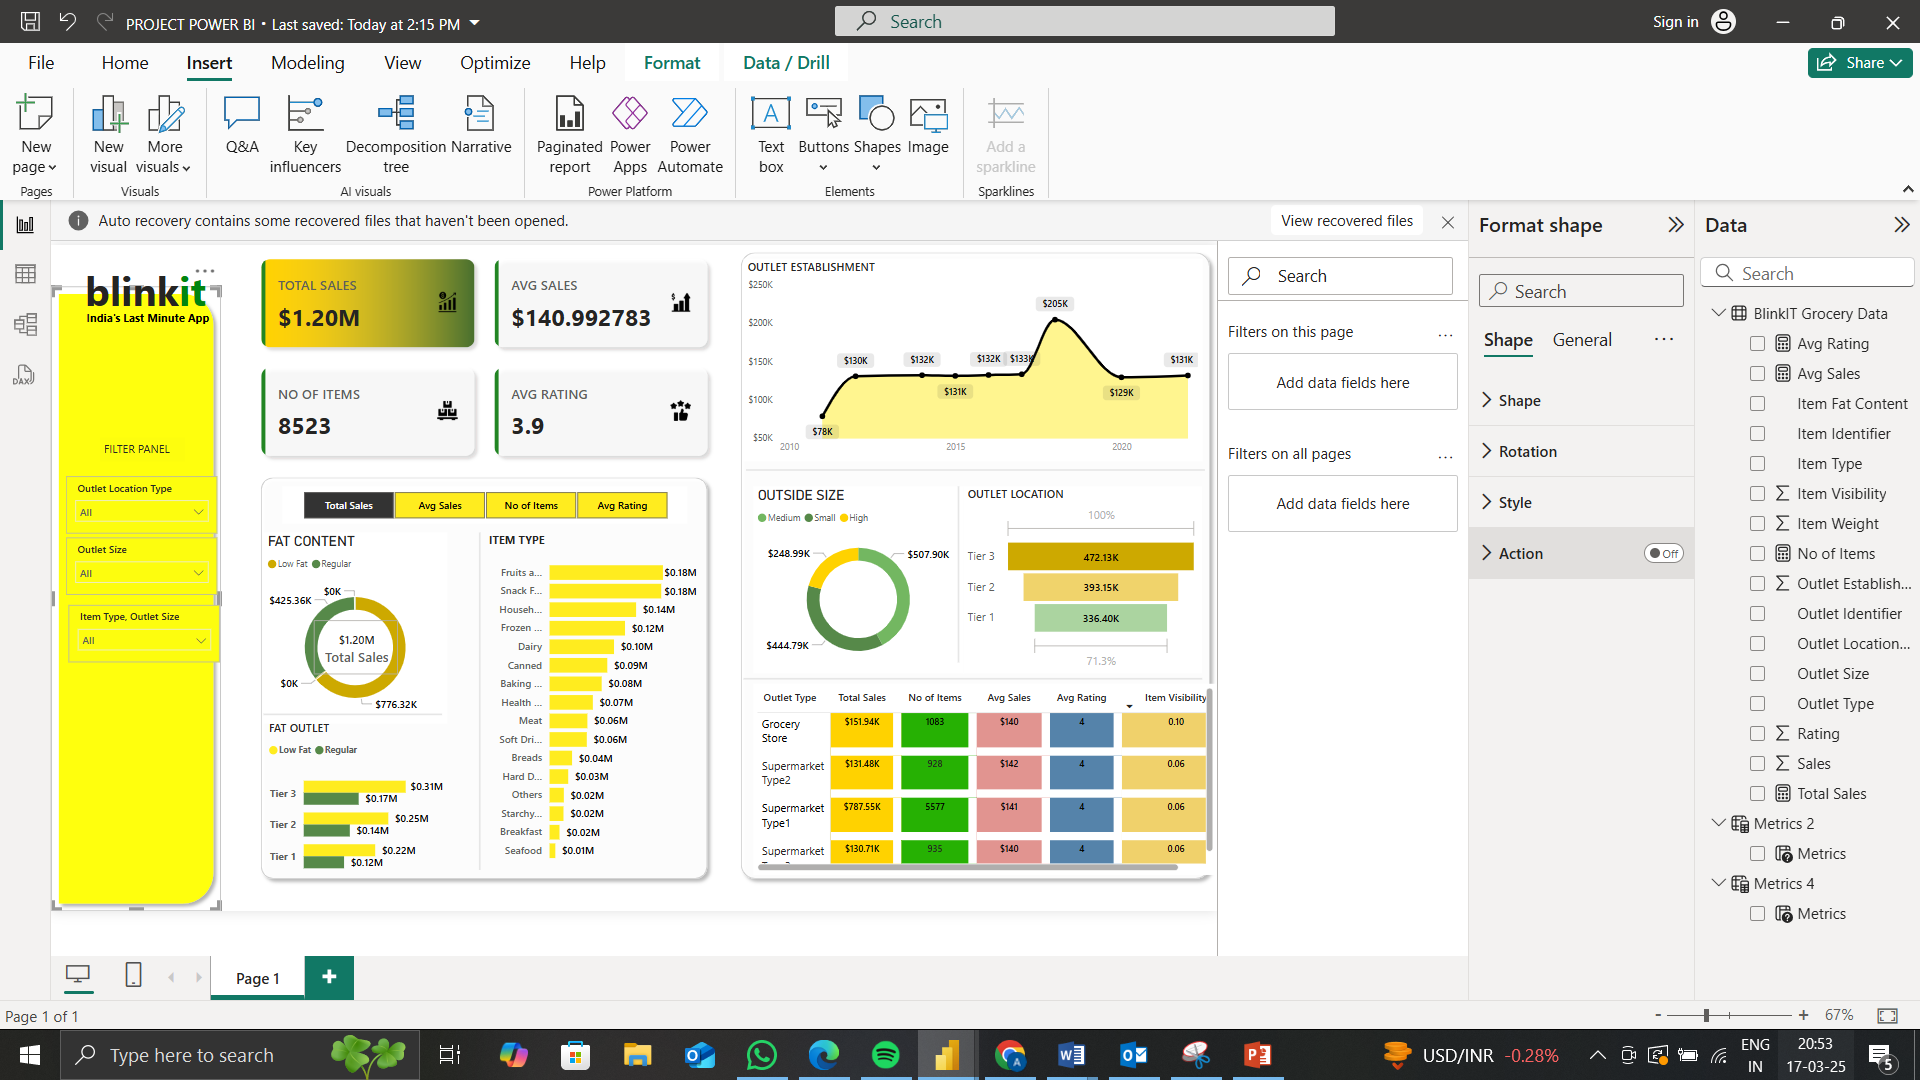

What the dashboard file says about the page in this screenshot:
{"tool":"powerbi","page":{"name":"Page 1","canvas":[1400,800],"ordinal":0},"visuals":[{"type":"shape","box":[10,0,205,750],"z":0},{"type":"textbox","box":[27,16.5,172.6,79.5],"z":1000},{"type":"textbox","box":[37.5,73.5,162.1,55.5],"z":2000},{"type":"cardVisual","fields":{"Data":["BlinkIT Grocery Data.Total Sales","BlinkIT Grocery Data.Avg Sales","BlinkIT Grocery Data.No of Items","BlinkIT Grocery Data.Ang Rating"]},"box":[235.6,0,570.3,270.2],"z":3000},{"type":"shape","box":[243.1,270.2,553.8,499.8],"z":4000},{"type":"donutChart","title":"FAT CONTENT","fields":{"Y":["BlinkIT Grocery Data.Total Sales","BlinkIT Grocery Data.Avg Sales","BlinkIT Grocery Data.No of Items","BlinkIT Grocery Data.Avg Rating","BlinkIT Grocery Data.Avg Sales"],"Category":["BlinkIT Grocery Data.Item Fat Content"]},"box":[255.1,345.2,220.6,229.6],"z":5000},{"type":"slicer","fields":{"Values":["Metrics 4.Metrics"]},"box":[277.7,289.7,486.3,45],"z":6000},{"type":"cardVisual","fields":{"Data":["BlinkIT Grocery Data.Total Sales"]},"box":[310.7,445.8,111.1,75],"z":7000},{"type":"clusteredBarChart","title":"FAT OUTLET","fields":{"Y":["BlinkIT Grocery Data.Total Sales"],"Category":["BlinkIT Grocery Data.Outlet Location Type"],"Series":["BlinkIT Grocery Data.Item Fat Content"]},"box":[256.6,570.3,219.1,199.6],"z":8000},{"type":"shape","box":[255.1,556.8,214.6,13.5],"z":9000},{"type":"shape","box":[508.8,345.2,12,405.2],"z":10000},{"type":"barChart","title":"ITEM TYPE","fields":{"Y":["BlinkIT Grocery Data.Total Sales"],"Category":["BlinkIT Grocery Data.Item Type"]},"box":[520.8,345.2,259.6,405.2],"z":11000},{"type":"shape","box":[819.5,0,580.8,769.9],"z":12000},{"type":"lineChart","title":"OUTLET ESTABLISHMENT","fields":{"Y":["BlinkIT Grocery Data.Total Sales"],"Category":["BlinkIT Grocery Data.Outlet Establishment Year"]},"box":[831.5,16.5,550.8,243.1],"z":13000},{"type":"shape","box":[834.5,264.2,550.8,12],"z":14000},{"type":"donutChart","title":"OUTSIDE SIZE","fields":{"Y":["BlinkIT Grocery Data.Total Sales"],"Category":["BlinkIT Grocery Data.Outlet Size"]},"box":[843.5,289.7,252.1,225.1],"z":15000},{"type":"shape","box":[1083.6,289.7,12,211.6],"z":16000},{"type":"funnel","title":"OUTLET LOCATION","fields":{"Y":["Sum(BlinkIT Grocery Data.Sales)"],"Category":["BlinkIT Grocery Data.Outlet Location Type"]},"box":[1095.6,289.7,286.7,225.1],"z":17000},{"type":"shape","box":[831.5,514.8,550.8,12],"z":18000},{"type":"pivotTable","fields":{"Rows":["BlinkIT Grocery Data.Outlet Type"],"Values":["BlinkIT Grocery Data.Total Sales","BlinkIT Grocery Data.No of Items","BlinkIT Grocery Data.Avg Sales","BlinkIT Grocery Data.Avg Rating","Avg(BlinkIT Grocery Data.Item Visibility)"]},"box":[843.5,526.8,556.8,229.6],"z":19000},{"type":"slicer","fields":{"Values":["BlinkIT Grocery Data.Outlet Location Type"]},"box":[18,277.7,181.6,69],"z":20000},{"type":"slicer","fields":{"Values":["BlinkIT Grocery Data.Outlet Size"]},"box":[18,351.2,181.6,69],"z":21000},{"type":"slicer","fields":{"Values":["BlinkIT Grocery Data.Item Type","BlinkIT Grocery Data.Outlet Size"]},"box":[21,432.2,181.6,69],"z":22000},{"type":"textbox","box":[58.5,231.1,102.1,28.5],"z":23000}]}

Visuals, with their boxes on the page's 1400x800 design canvas (x1, y1, x2, y2). These are canvas units, not pixel positions in the 1920x1080 screenshot, which may show the page scaled, cropped or inside an application window:
shape: x1=10 y1=0 x2=215 y2=750
textbox: x1=27 y1=16 x2=200 y2=96
textbox: x1=38 y1=74 x2=200 y2=129
cardVisual - BlinkIT Grocery Data.Total Sales x BlinkIT Grocery Data.Avg Sales: x1=236 y1=0 x2=806 y2=270
shape: x1=243 y1=270 x2=797 y2=770
"FAT CONTENT" donutChart: x1=255 y1=345 x2=476 y2=575
slicer - Metrics 4.Metrics: x1=278 y1=290 x2=764 y2=335
cardVisual - BlinkIT Grocery Data.Total Sales: x1=311 y1=446 x2=422 y2=521
"FAT OUTLET" clusteredBarChart: x1=257 y1=570 x2=476 y2=770
shape: x1=255 y1=557 x2=470 y2=570
shape: x1=509 y1=345 x2=521 y2=750
"ITEM TYPE" barChart: x1=521 y1=345 x2=780 y2=750
shape: x1=820 y1=0 x2=1400 y2=770
"OUTLET ESTABLISHMENT" lineChart: x1=832 y1=16 x2=1382 y2=260
shape: x1=834 y1=264 x2=1385 y2=276
"OUTSIDE SIZE" donutChart: x1=844 y1=290 x2=1096 y2=515
shape: x1=1084 y1=290 x2=1096 y2=501
"OUTLET LOCATION" funnel: x1=1096 y1=290 x2=1382 y2=515
shape: x1=832 y1=515 x2=1382 y2=527
pivotTable - BlinkIT Grocery Data.Outlet Type x BlinkIT Grocery Data.Total Sales: x1=844 y1=527 x2=1400 y2=756
slicer - BlinkIT Grocery Data.Outlet Location Type: x1=18 y1=278 x2=200 y2=347
slicer - BlinkIT Grocery Data.Outlet Size: x1=18 y1=351 x2=200 y2=420
slicer - BlinkIT Grocery Data.Item Type x BlinkIT Grocery Data.Outlet Size: x1=21 y1=432 x2=203 y2=501
textbox: x1=58 y1=231 x2=161 y2=260
